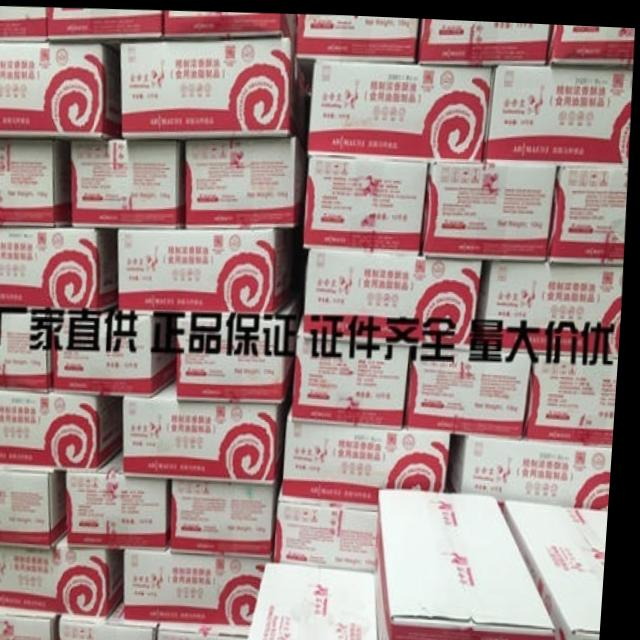box: (378, 487, 562, 640), (121, 36, 302, 138), (308, 61, 490, 157), (307, 247, 487, 344), (130, 381, 297, 477), (286, 412, 456, 503), (121, 224, 295, 311), (510, 496, 615, 640), (487, 60, 633, 159), (477, 257, 625, 353), (425, 157, 560, 254), (180, 296, 303, 402), (453, 430, 618, 506), (306, 154, 431, 252), (0, 42, 122, 138), (410, 341, 535, 433), (55, 311, 183, 396), (131, 551, 281, 623), (299, 329, 413, 423), (70, 450, 178, 548), (253, 560, 385, 640), (187, 137, 307, 224), (0, 389, 128, 469), (74, 139, 188, 227), (0, 228, 121, 308), (0, 547, 131, 616), (178, 475, 289, 554), (529, 348, 623, 440), (553, 159, 630, 257), (277, 501, 384, 566), (0, 463, 74, 548), (0, 139, 72, 225), (298, 12, 418, 59), (422, 15, 550, 59), (0, 308, 56, 393), (66, 599, 166, 640), (48, 6, 165, 39), (164, 10, 287, 38), (549, 19, 634, 56), (0, 605, 67, 640), (167, 622, 261, 640), (0, 6, 47, 41)
